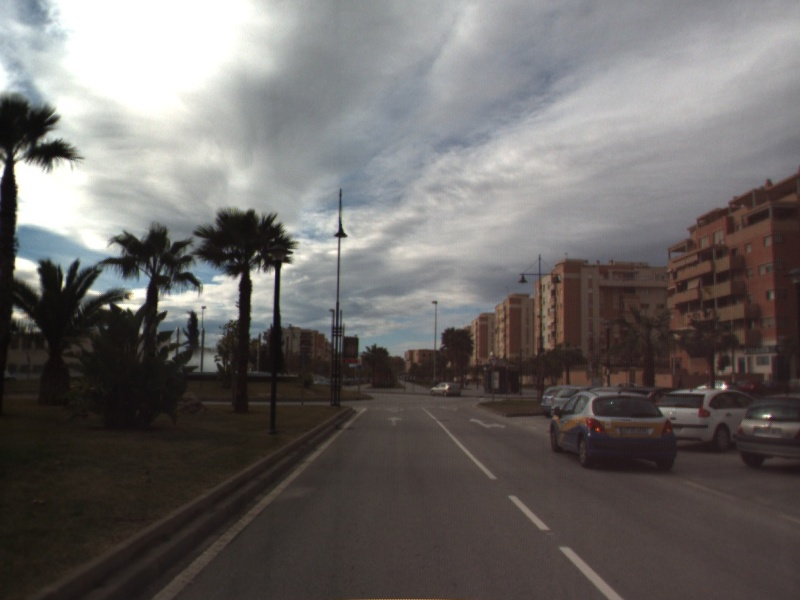STRAIGHT: (385, 414, 405, 428)
STRAIGHT_RIGHT: (467, 416, 508, 431)
